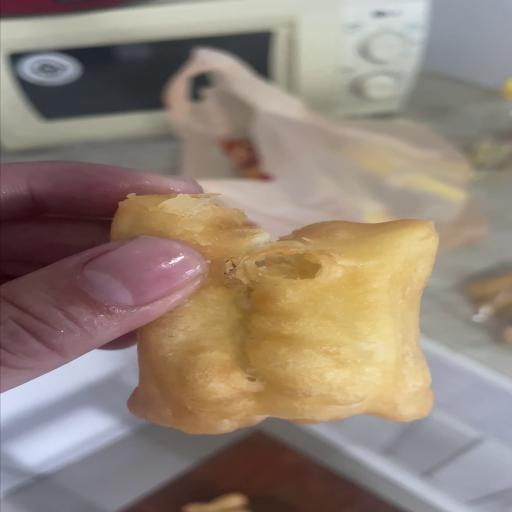street_golden_defect: (115, 194, 438, 433)
